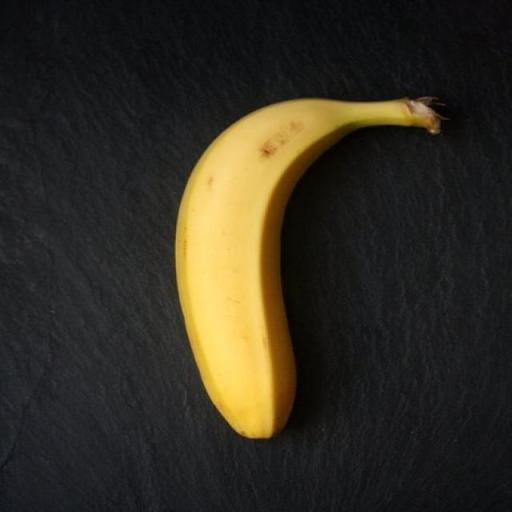fruit: (176, 98, 439, 437)
